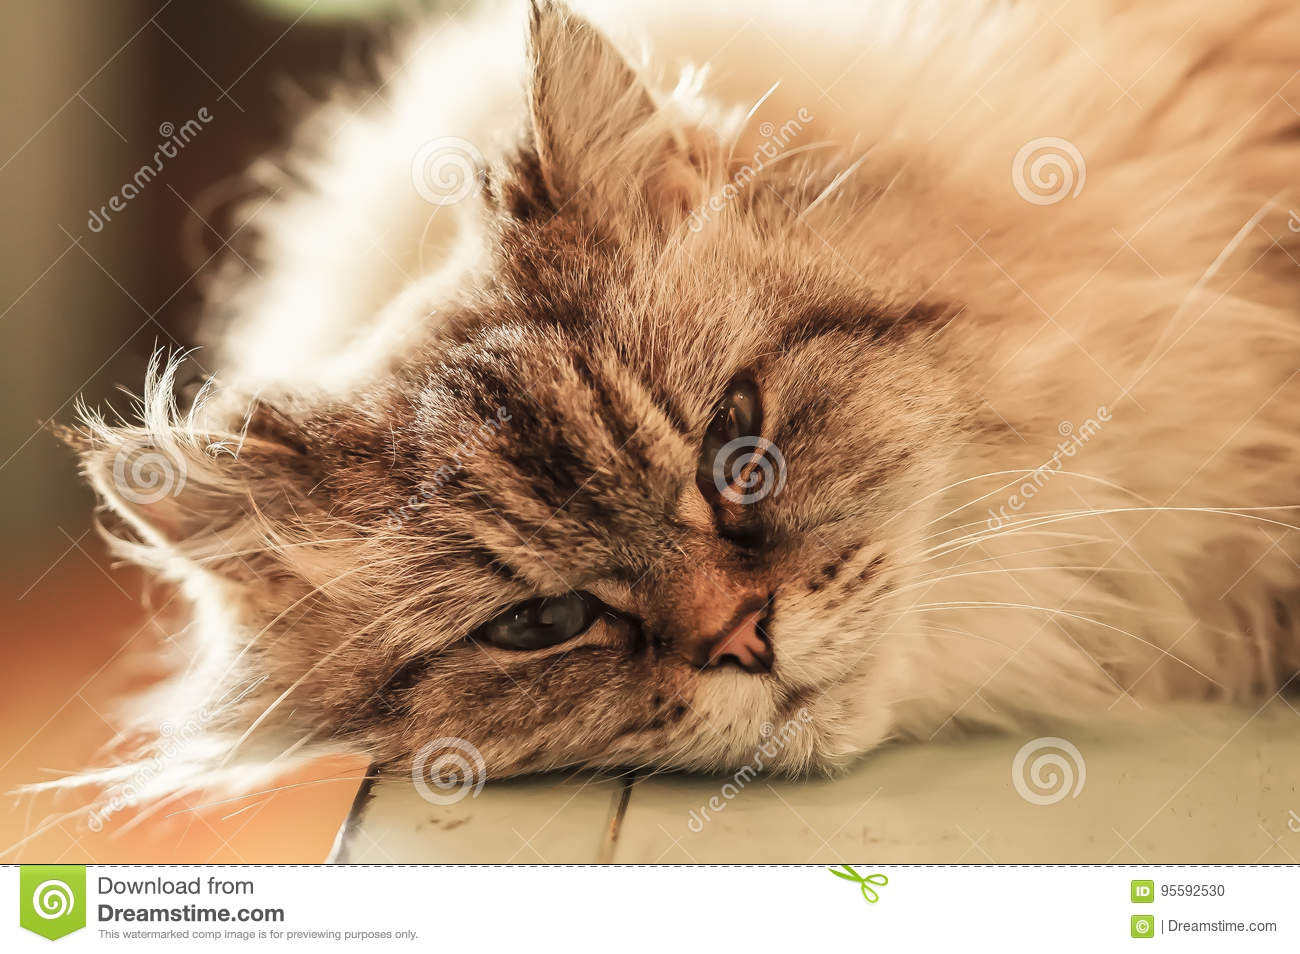cat: (56, 1, 1300, 806)
